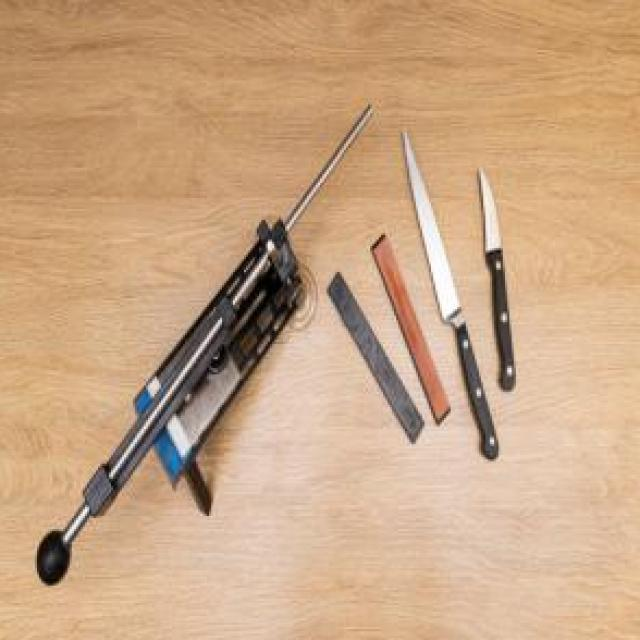knife: (401, 128, 502, 460), (474, 165, 522, 394)
